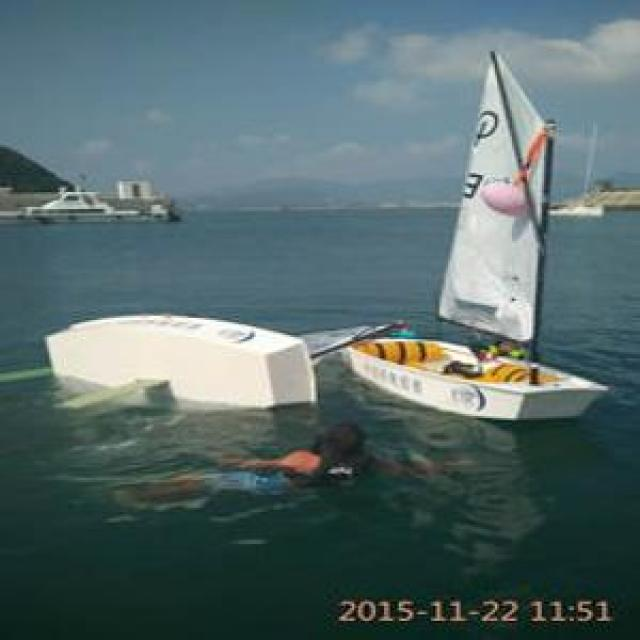houseboat: (19, 178, 170, 226)
sailboat: (350, 48, 611, 418), (42, 288, 404, 410)
